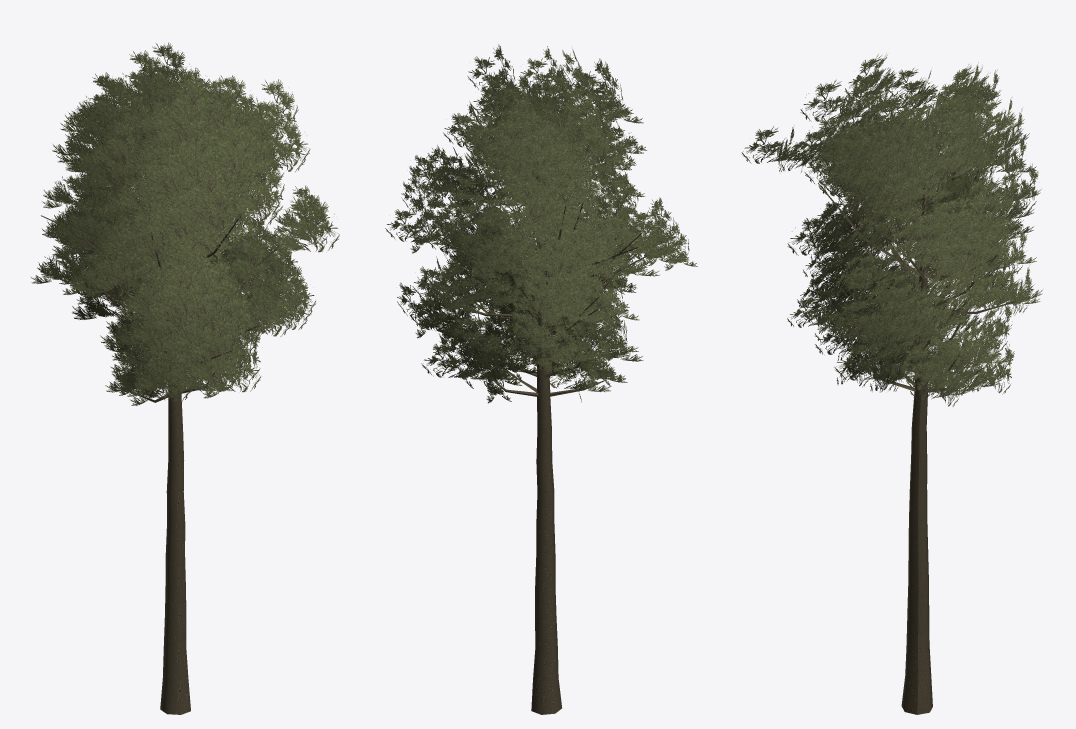
Rendered from SM_Pine_01_LOD.gltf.
3 views of the same model, side by side, from view 1: azimuth 30°, elevation 25°; view 2: azimuth 150°, elevation 25°; view 3: azimuth 270°, elevation 25° (orthographic).
Visible parts, largest first — view 1: SM_Pine_01_LOD; view 2: SM_Pine_01_LOD; view 3: SM_Pine_01_LOD.
Boxes of the visible parts, bbox=[...] form: SM_Pine_01_LOD: bbox=[31, 42, 339, 714]; SM_Pine_01_LOD: bbox=[385, 44, 697, 714]; SM_Pine_01_LOD: bbox=[741, 54, 1042, 714].
Bounding box in the file's own units: 8.84 × 20.1 × 8.83.
Materials: 2 (2 with a texture image).
